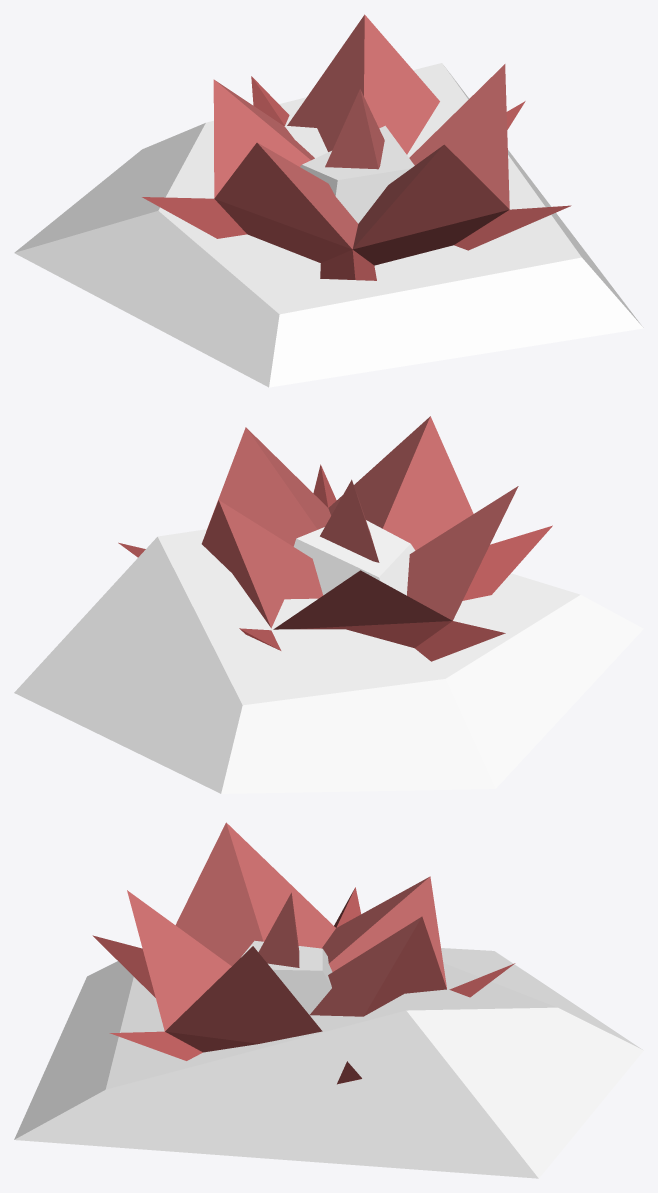
The model's file is BushWinter5_Alt4.fbx.
3 views of the same model, one above another, from view 1: azimuth 30°, elevation 25°; view 2: azimuth 150°, elevation 25°; view 3: azimuth 270°, elevation 25° (orthographic).
Visible parts, largest first — view 1: BushWinter5_Alt4; view 2: BushWinter5_Alt4; view 3: BushWinter5_Alt4.
Boxes of the visible parts, bbox=[...] form: BushWinter5_Alt4: bbox=[14, 14, 643, 387]; BushWinter5_Alt4: bbox=[14, 416, 643, 793]; BushWinter5_Alt4: bbox=[14, 822, 643, 1178].
Size of the model in its own units: 0.9251 by 0.3591 by 1.08.
